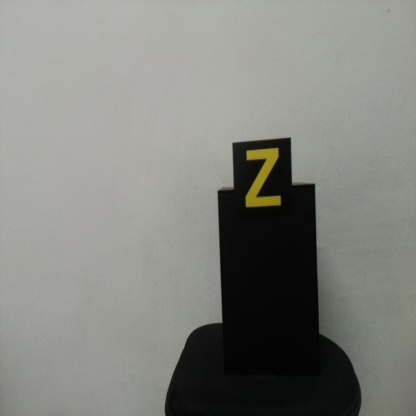id_15: (232, 143, 293, 221)
